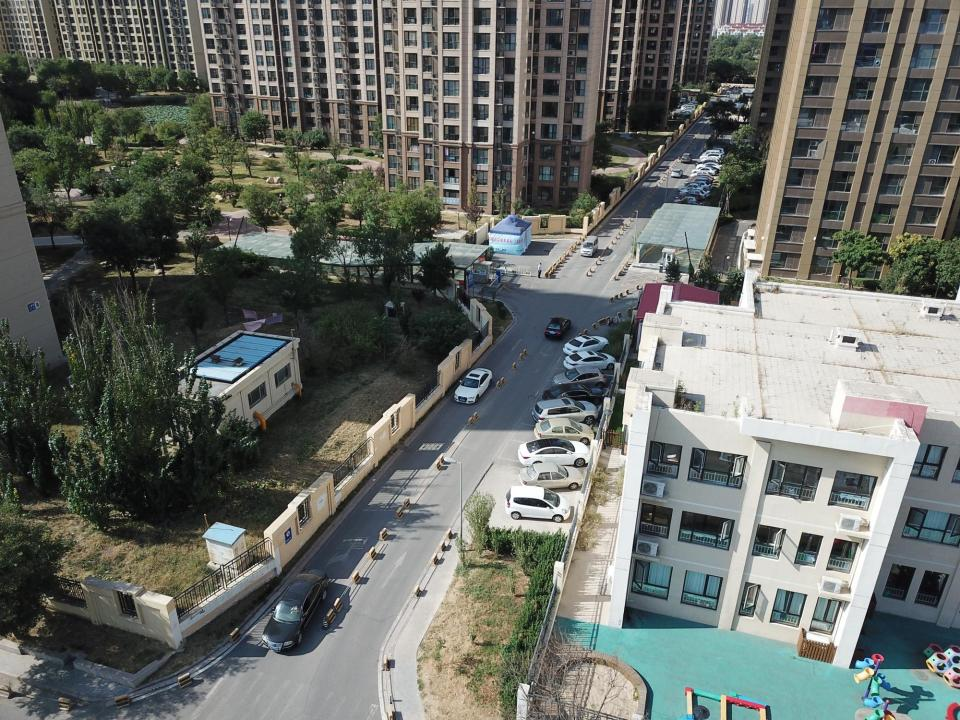car: (262, 568, 329, 651), (505, 485, 571, 523), (518, 437, 592, 467), (519, 461, 584, 490), (531, 398, 599, 425), (534, 418, 595, 444), (454, 368, 493, 404), (542, 384, 605, 405), (553, 366, 606, 389), (563, 351, 617, 371), (563, 336, 609, 356), (544, 316, 572, 337), (671, 168, 683, 178), (680, 153, 692, 163), (680, 98, 686, 103)
van: (580, 236, 598, 257)
